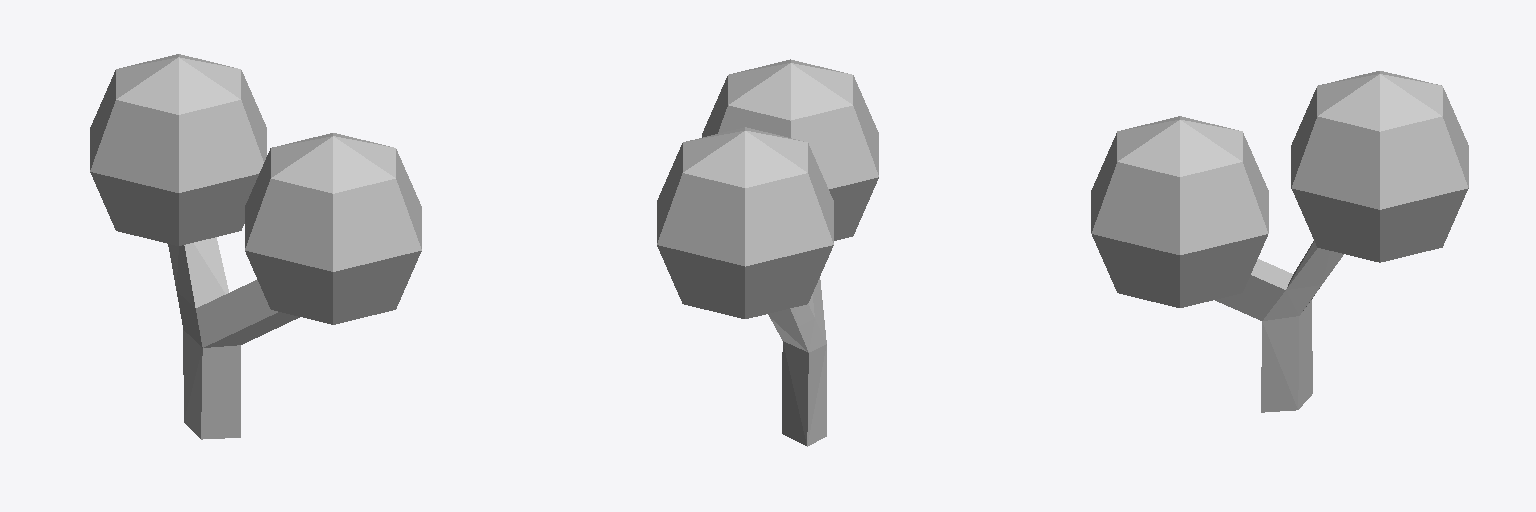
The model's file is tree.obj.
3 renders of one model, left to right at view 1: azimuth 30°, elevation 25°; view 2: azimuth 150°, elevation 25°; view 3: azimuth 270°, elevation 25°, orthographic.
Size of the model in its own units: 2.62 by 3.64 by 3.69.